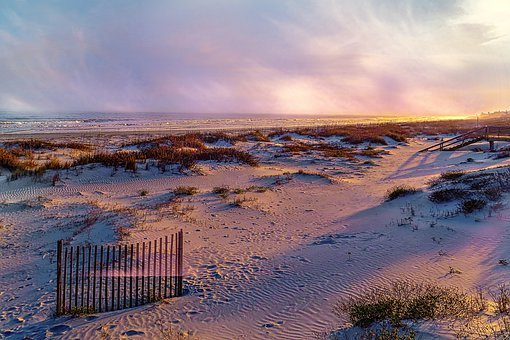field: (8, 120, 508, 339)
sky: (2, 2, 503, 118)
